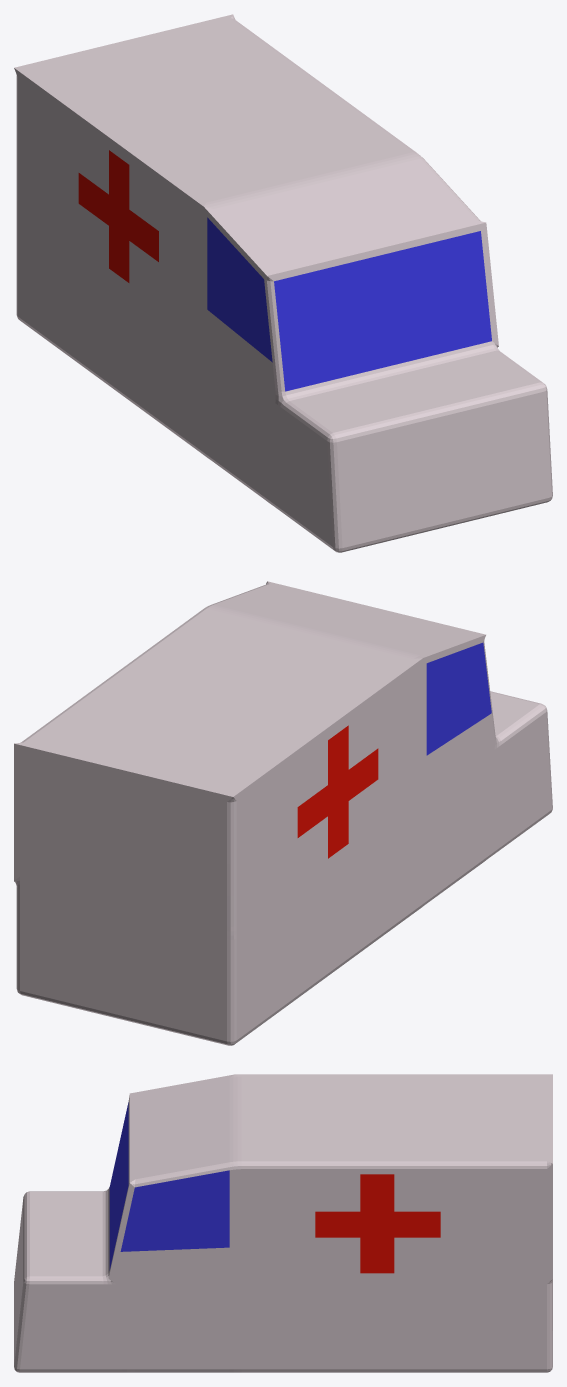
The model's file is ambulancia.fbx.
3 renders of one model, top to bottom at view 1: azimuth 30°, elevation 25°; view 2: azimuth 150°, elevation 25°; view 3: azimuth 270°, elevation 25°, orthographic. The views are drawn at different scales.
Parts seen in each view (by area): view 1: Cube; view 2: Cube; view 3: Cube.
Boxes of the visible parts, left/top/right/bottom form: Cube: left=14, top=14, right=552, bottom=552; Cube: left=14, top=581, right=552, bottom=1045; Cube: left=14, top=1074, right=552, bottom=1372.
Bounding box in the file's own units: 2 × 2.2 × 5.09.
